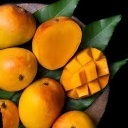mango: (32, 15, 81, 70)
